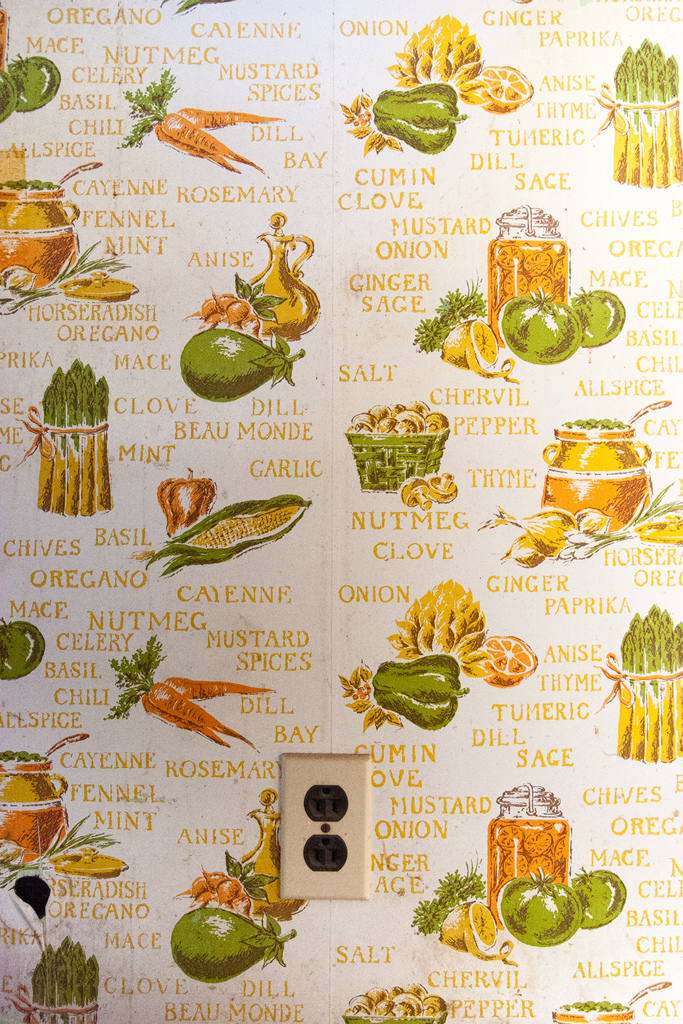Carrot: (142, 680, 260, 757), (167, 115, 261, 170), (153, 123, 228, 167), (177, 108, 281, 135)
